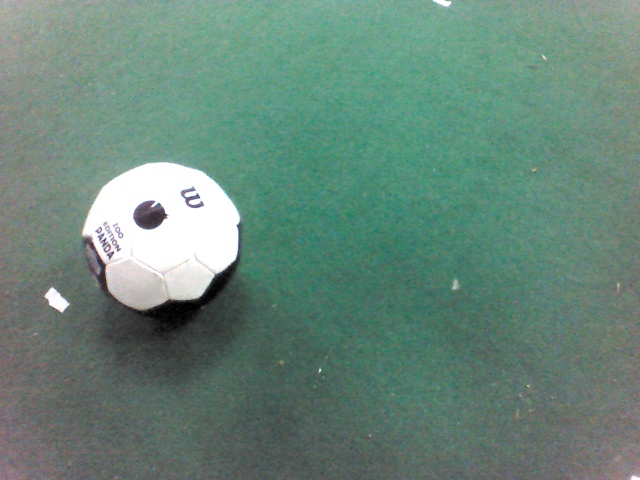ball: (375, 67, 494, 192)
